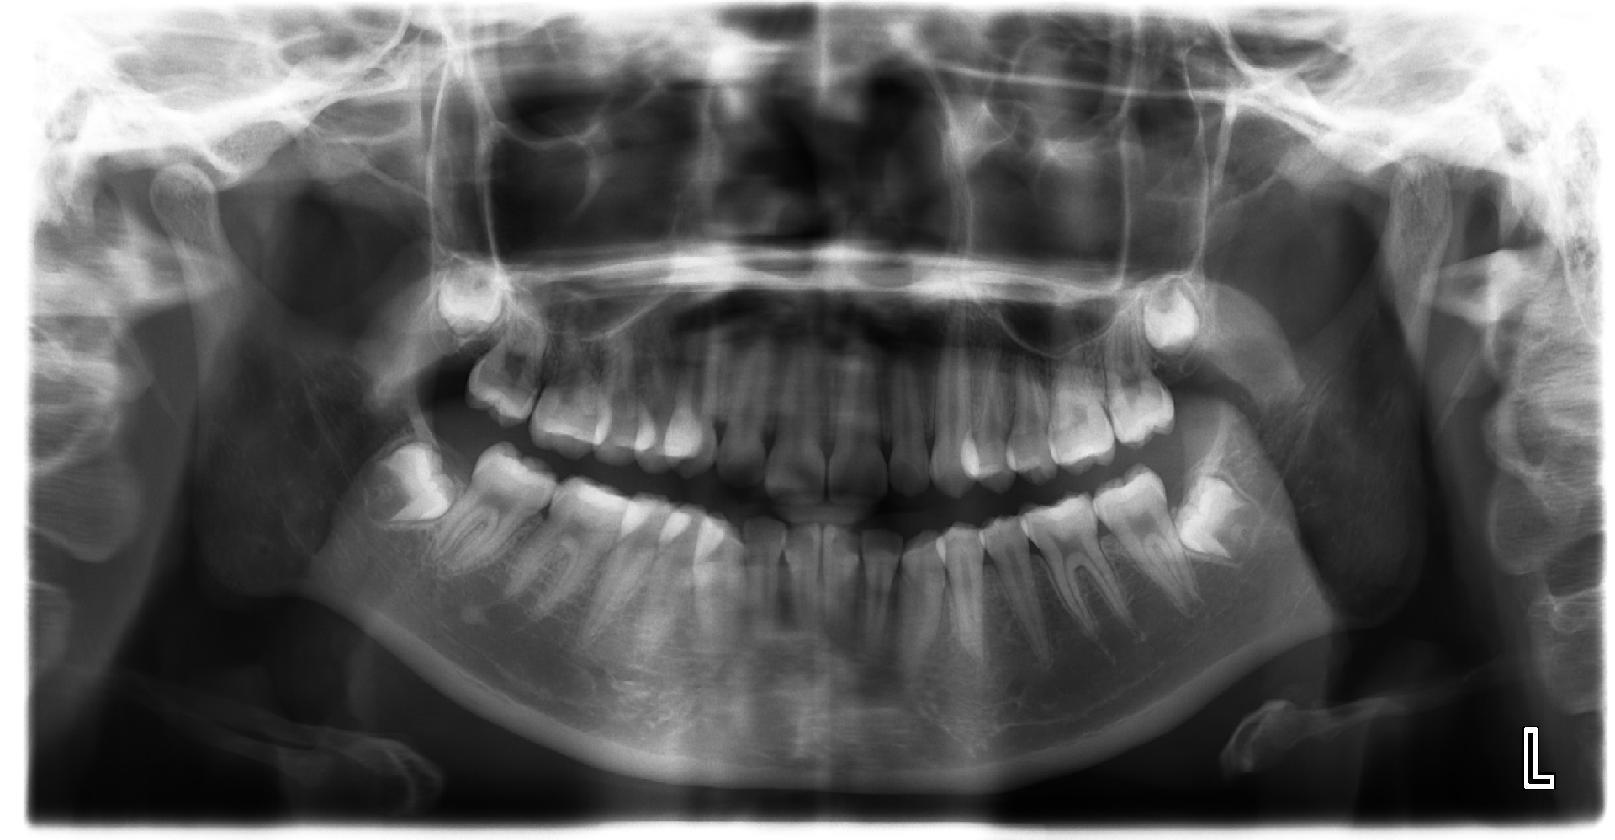Mesio-angular: (362, 432, 465, 550)
